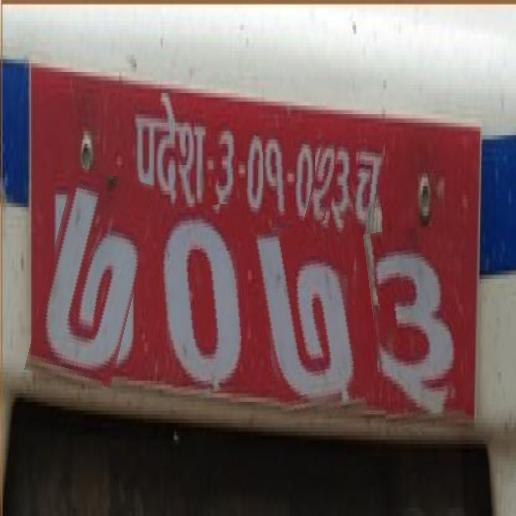0: (159, 205, 247, 395), (293, 140, 315, 225), (245, 131, 265, 216)
1: (263, 131, 286, 216)
2: (308, 140, 337, 229)
3: (369, 226, 461, 425), (213, 127, 237, 228), (331, 139, 352, 237)
7: (37, 170, 149, 388), (258, 222, 360, 422)
cha: (353, 139, 384, 238)
